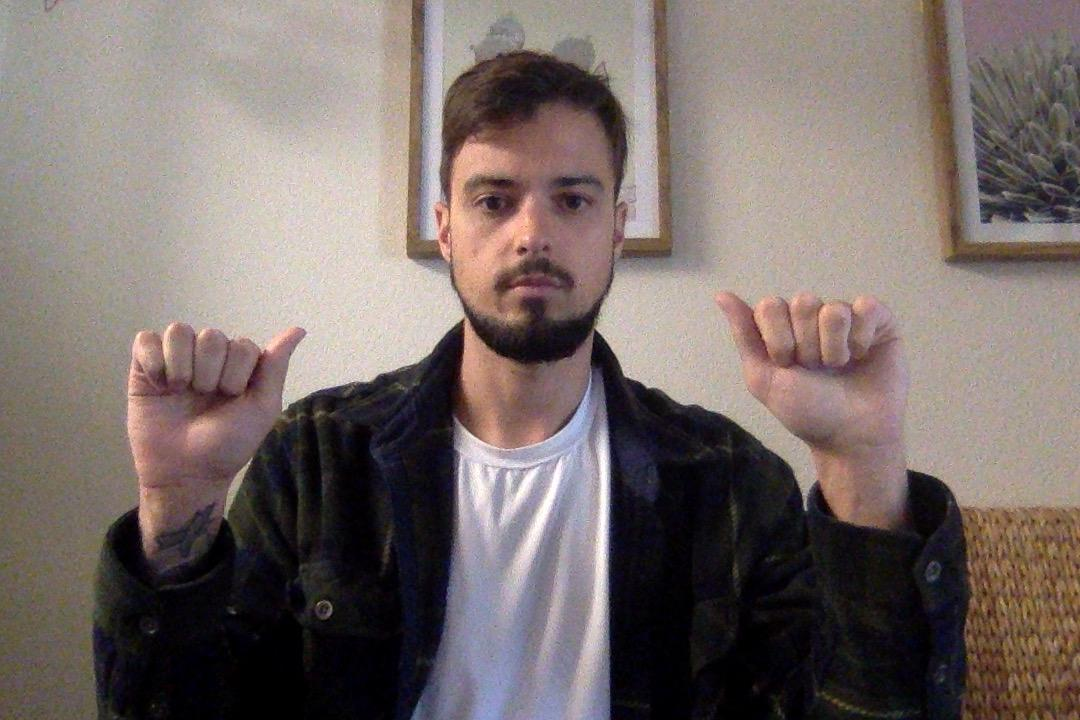Raised-Fist: (116, 314, 305, 552), (722, 283, 909, 499)
